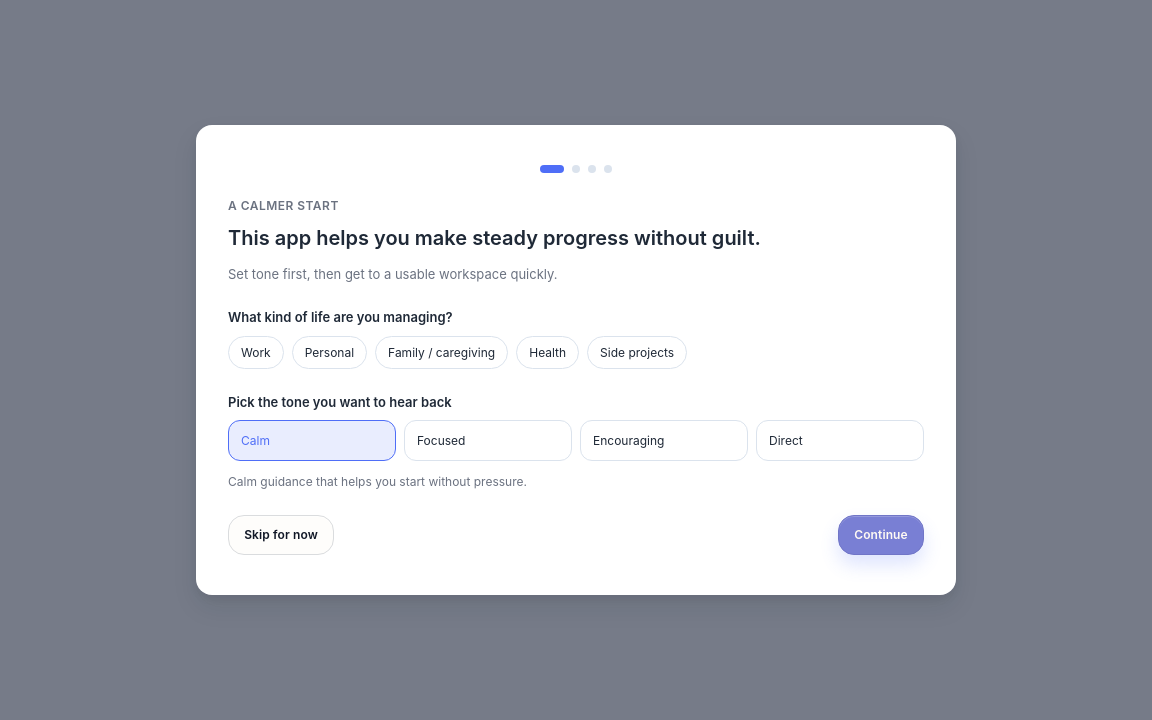
it: OnboardingFlow › navigation › advances from step 1 to step 2 on Continue click
Click the button "Continue": (881, 535) 838,515 -> 924,555
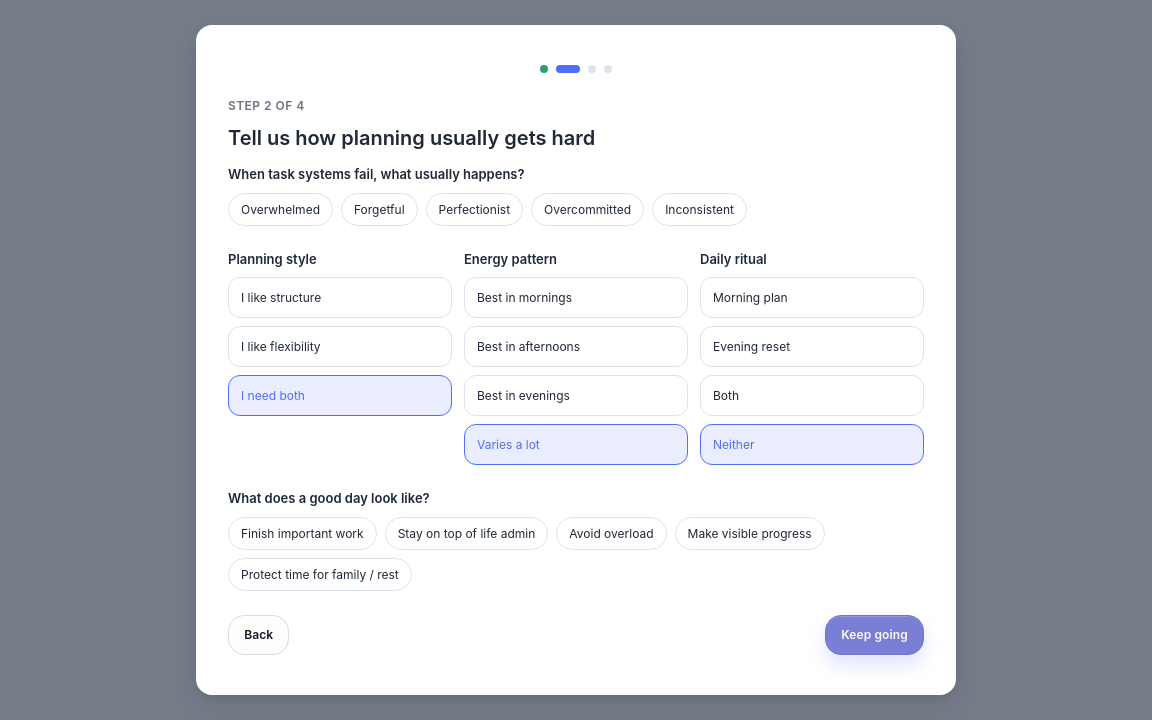
Expected: the heading "Tell us how planning usually gets hard" is shown, 228,126 -> 595,150
